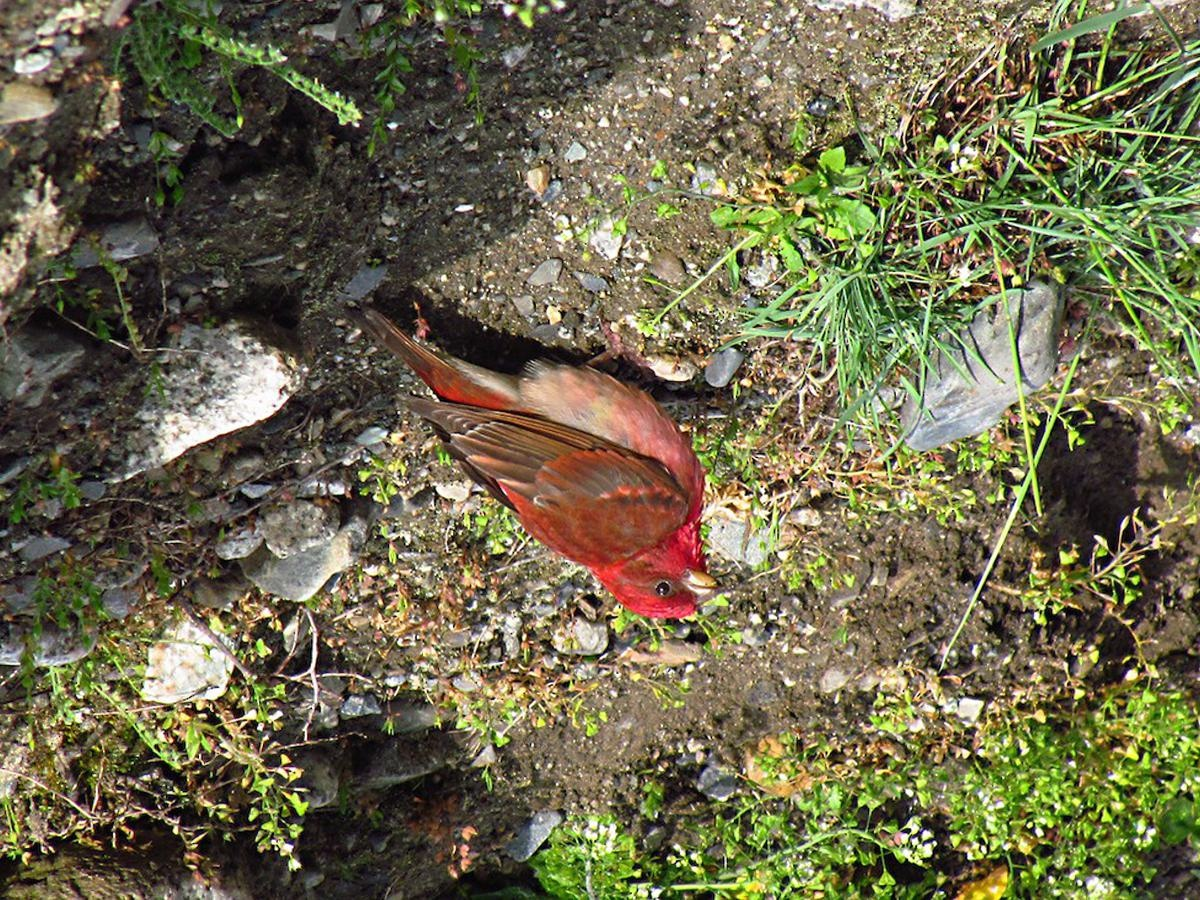rosefinch: (411, 310, 755, 631)
